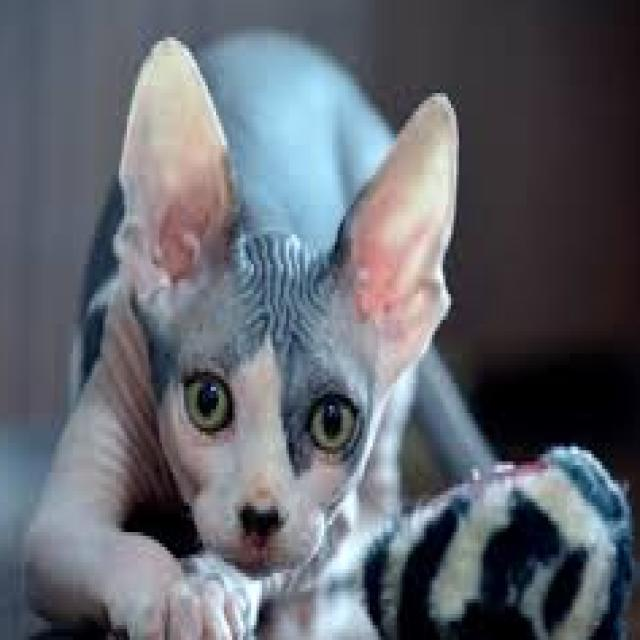Sphynx: (16, 18, 505, 640)
